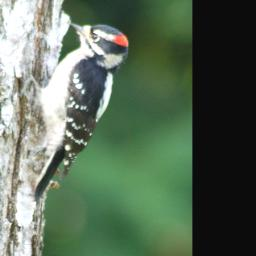Woodpecker: (25, 17, 132, 206)
